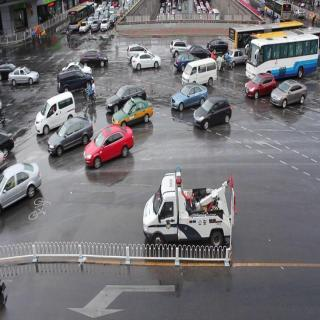BigCar: (245, 34, 320, 79)
Car: (141, 168, 238, 255), (44, 114, 90, 158), (89, 129, 132, 176), (34, 84, 74, 132), (0, 160, 39, 204), (196, 94, 231, 138), (111, 100, 158, 129), (274, 76, 306, 115), (54, 65, 92, 93), (98, 87, 153, 106), (131, 47, 160, 77), (186, 62, 218, 89), (78, 48, 114, 70), (170, 86, 207, 107), (249, 73, 274, 101), (10, 64, 37, 88)
